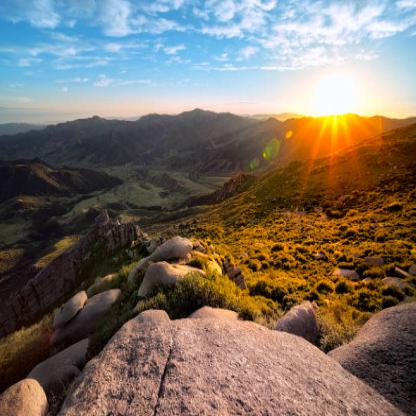Sedimentary_Sandstone: (59, 297, 404, 415), (326, 305, 416, 412), (0, 370, 48, 415)
